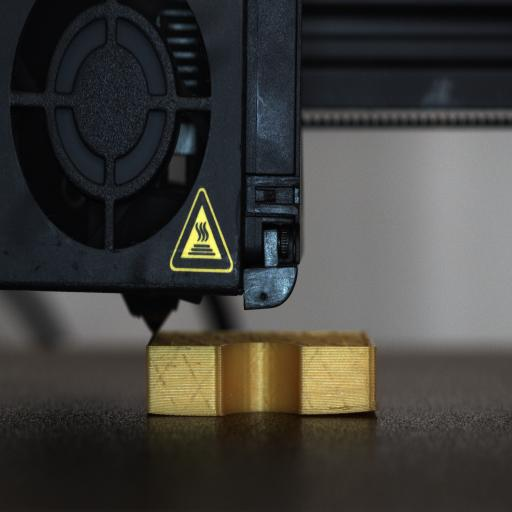warp: (315, 401, 378, 419), (144, 408, 161, 420)
